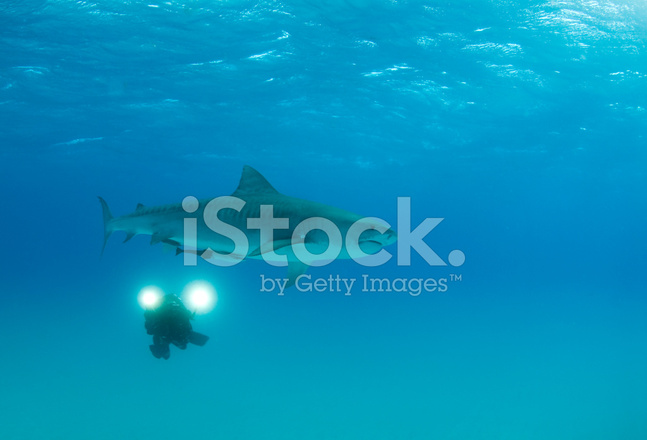shark: (76, 154, 412, 272)
